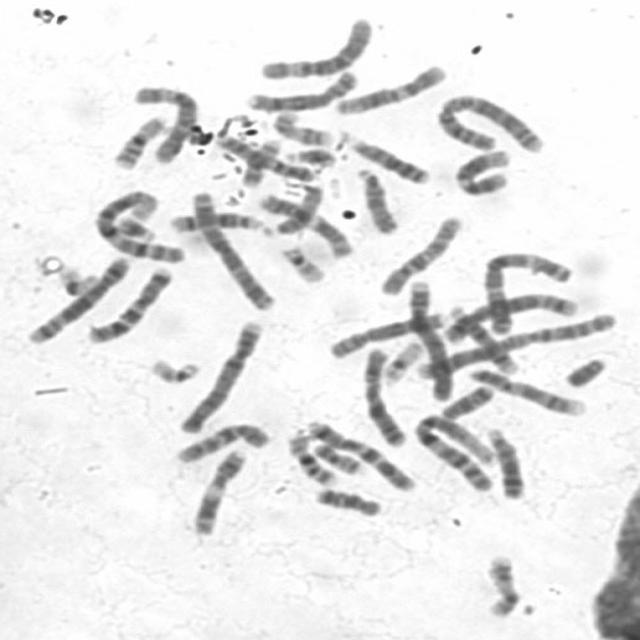A1: (93, 190, 186, 264), (413, 413, 495, 493)
A2: (413, 312, 618, 380), (437, 93, 543, 155)
A3: (191, 191, 275, 312), (484, 251, 573, 336)
B4: (179, 320, 264, 434), (408, 280, 454, 403)
B5: (26, 255, 130, 345), (444, 292, 578, 342)
C10: (380, 217, 462, 295), (176, 422, 271, 463)
C11: (259, 193, 352, 260), (193, 449, 250, 535)
C12: (334, 65, 446, 115), (454, 150, 511, 197)
C6: (262, 17, 373, 80), (133, 86, 197, 163)
C7: (306, 421, 416, 493), (87, 266, 175, 344)
C8: (326, 311, 445, 360), (247, 71, 360, 112)
C9: (470, 367, 587, 416), (216, 134, 315, 182)
D13: (347, 138, 429, 185), (485, 427, 525, 500)
D14: (448, 305, 520, 374), (169, 212, 275, 239)
D15: (356, 168, 399, 234), (274, 186, 325, 234)
E16: (113, 115, 167, 170), (286, 438, 335, 486)
E17: (270, 112, 334, 146), (486, 554, 520, 616)
E18: (239, 138, 284, 188), (314, 487, 381, 516)
F19: (383, 341, 424, 388), (58, 266, 98, 296)
F20: (441, 385, 495, 420), (312, 444, 361, 475)
G21: (286, 146, 338, 168), (116, 215, 158, 242)
G22: (280, 246, 324, 284), (150, 358, 200, 383)
X: (362, 344, 407, 448)
Y: (566, 358, 608, 389)
